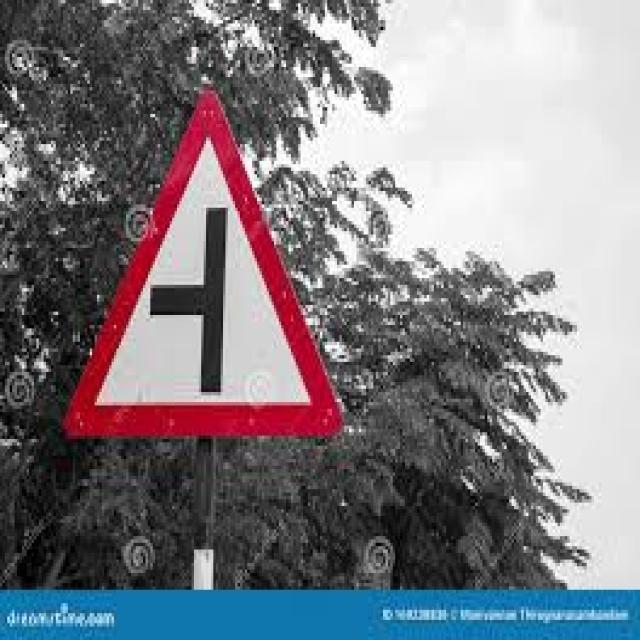side road left: (64, 85, 346, 439)
